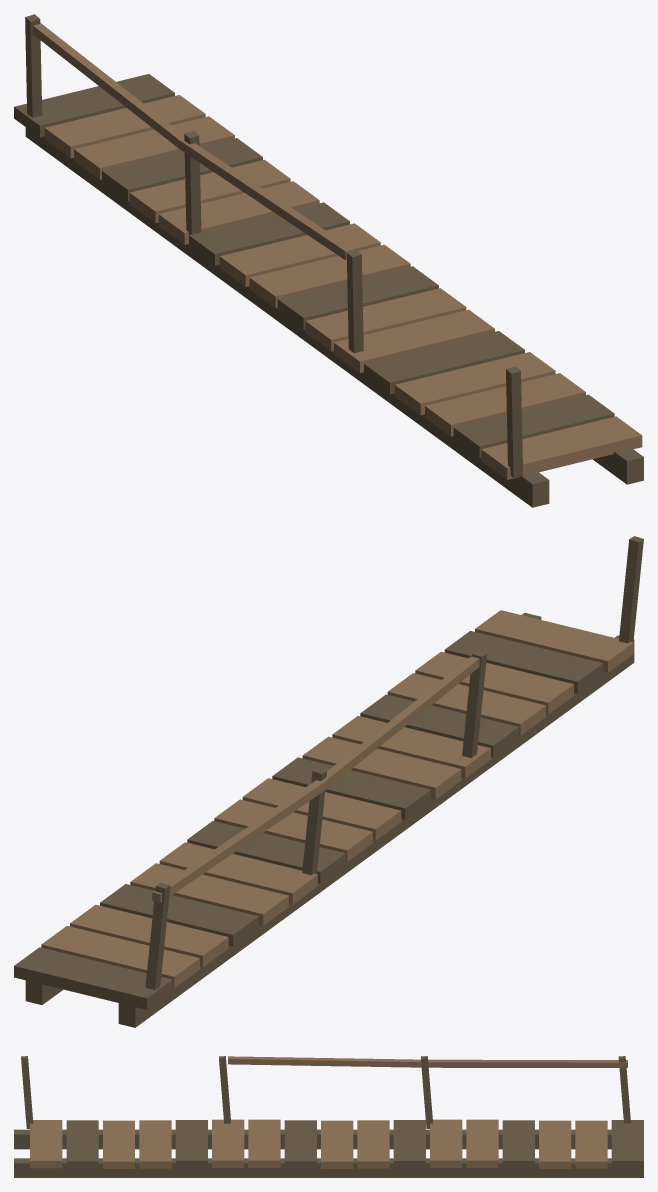
The model's file is ua_valley_footbridge.obj.
3 renders of one model, top to bottom at view 1: azimuth 30°, elevation 25°; view 2: azimuth 150°, elevation 25°; view 3: azimuth 270°, elevation 25°, orthographic. The views are drawn at different scales.
Visible parts, largest first — view 1: ua_valley_footbridge; view 2: ua_valley_footbridge; view 3: ua_valley_footbridge.
Part boxes in pixels (x1=…): ua_valley_footbridge: x1=14, y1=14, x2=643, y2=507; ua_valley_footbridge: x1=14, y1=536, x2=643, y2=1027; ua_valley_footbridge: x1=14, y1=1056, x2=643, y2=1177.
Bounding box in the file's own units: 1.27 × 1.15 × 7.8.
